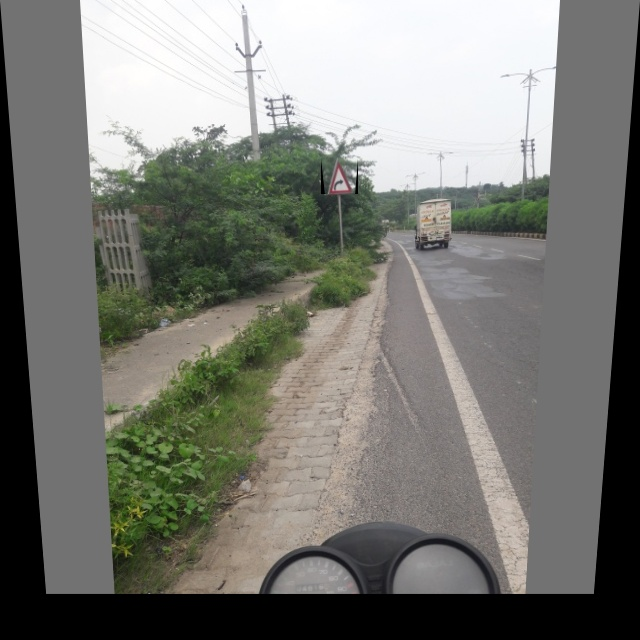Right_Hand_Curve: (321, 158, 358, 194)
